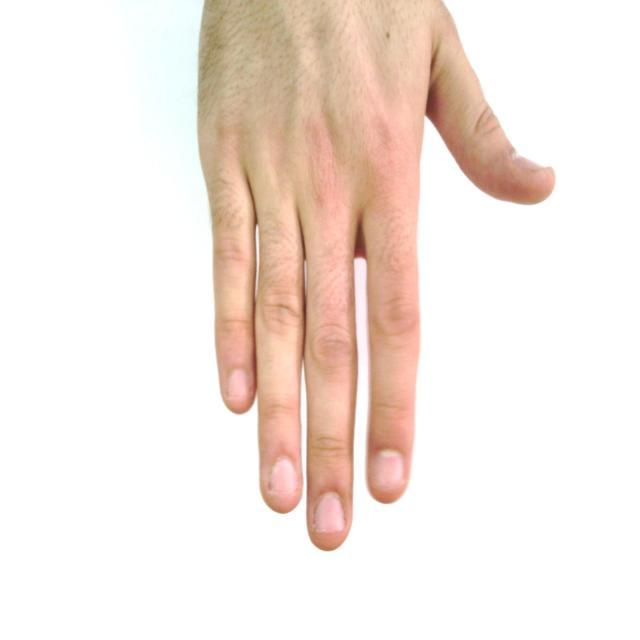Fingernail: (372, 451, 403, 489), (315, 493, 344, 533), (270, 458, 297, 495), (228, 370, 249, 399), (517, 156, 546, 172)
